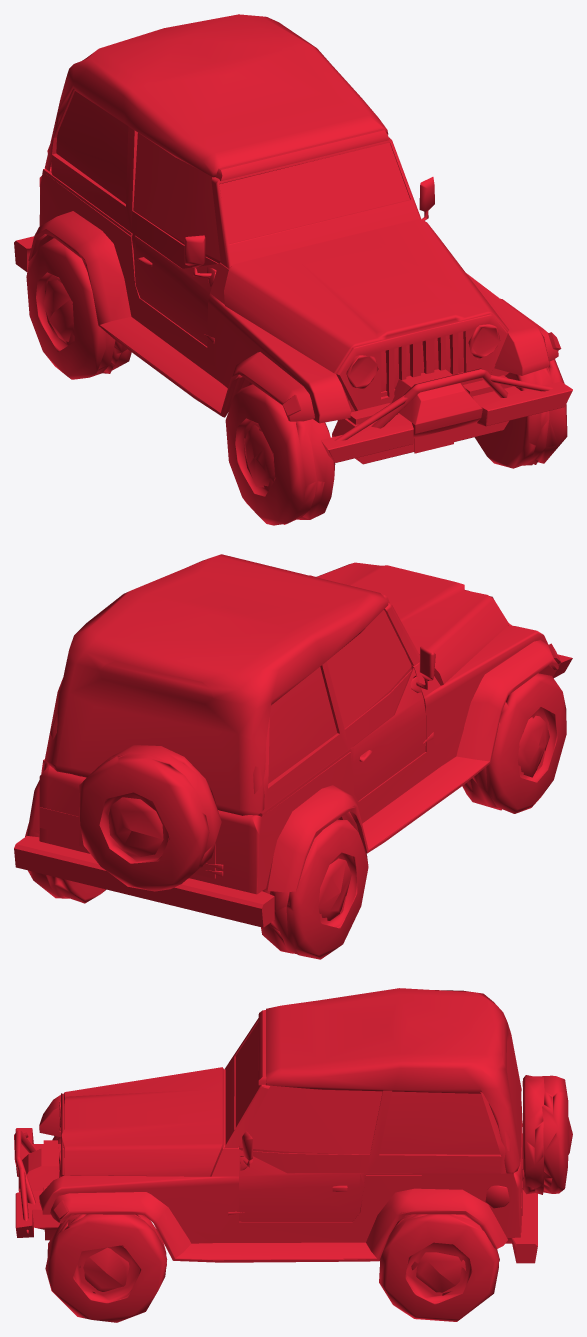
Rendered from vehicle.jeep.wrangler_rubicon.fbx.
3 views of the same model, one above another, from view 1: azimuth 30°, elevation 25°; view 2: azimuth 150°, elevation 25°; view 3: azimuth 270°, elevation 25° (orthographic). The views are drawn at different scales.
Visible parts, largest first — view 1: Vh_Car_JeepWranglerRubicon_NOrig3_627_LOD2; view 2: Vh_Car_JeepWranglerRubicon_NOrig3_627_LOD2; view 3: Vh_Car_JeepWranglerRubicon_NOrig3_627_LOD2.
Boxes of the visible parts, x1,y1,x2,y2 form: Vh_Car_JeepWranglerRubicon_NOrig3_627_LOD2: [14, 14, 572, 525]; Vh_Car_JeepWranglerRubicon_NOrig3_627_LOD2: [14, 554, 572, 959]; Vh_Car_JeepWranglerRubicon_NOrig3_627_LOD2: [14, 988, 572, 1322].
Size of the model in its own units: 193 by 388 by 188.
